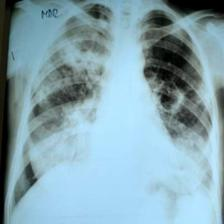tuberculosis: (6, 2, 218, 224)
